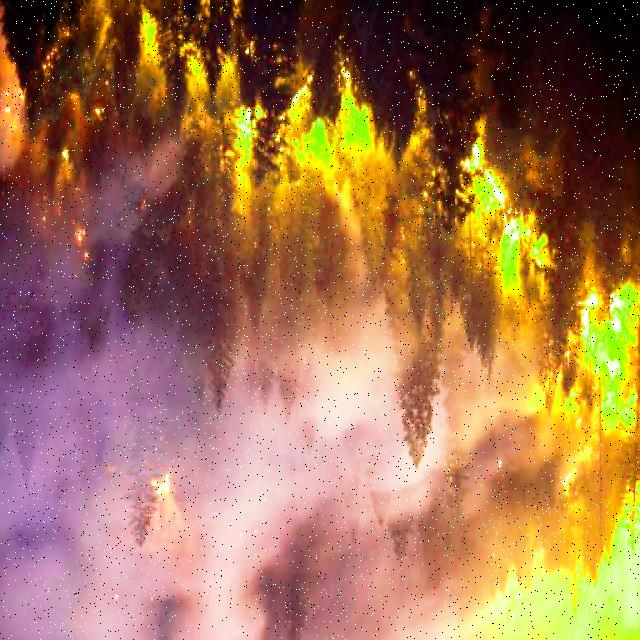api: (588, 298, 640, 377), (487, 197, 521, 263), (601, 380, 637, 436), (344, 104, 376, 150)
asap: (3, 161, 477, 640)
